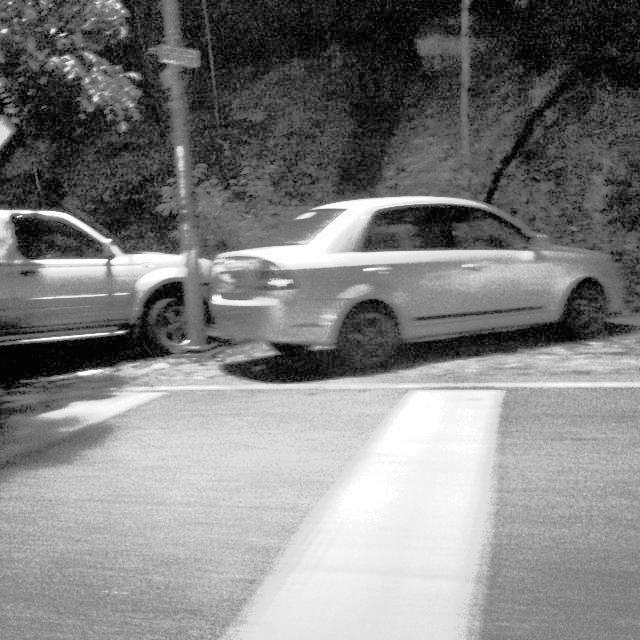Car: (214, 168, 631, 389), (0, 192, 255, 379)
